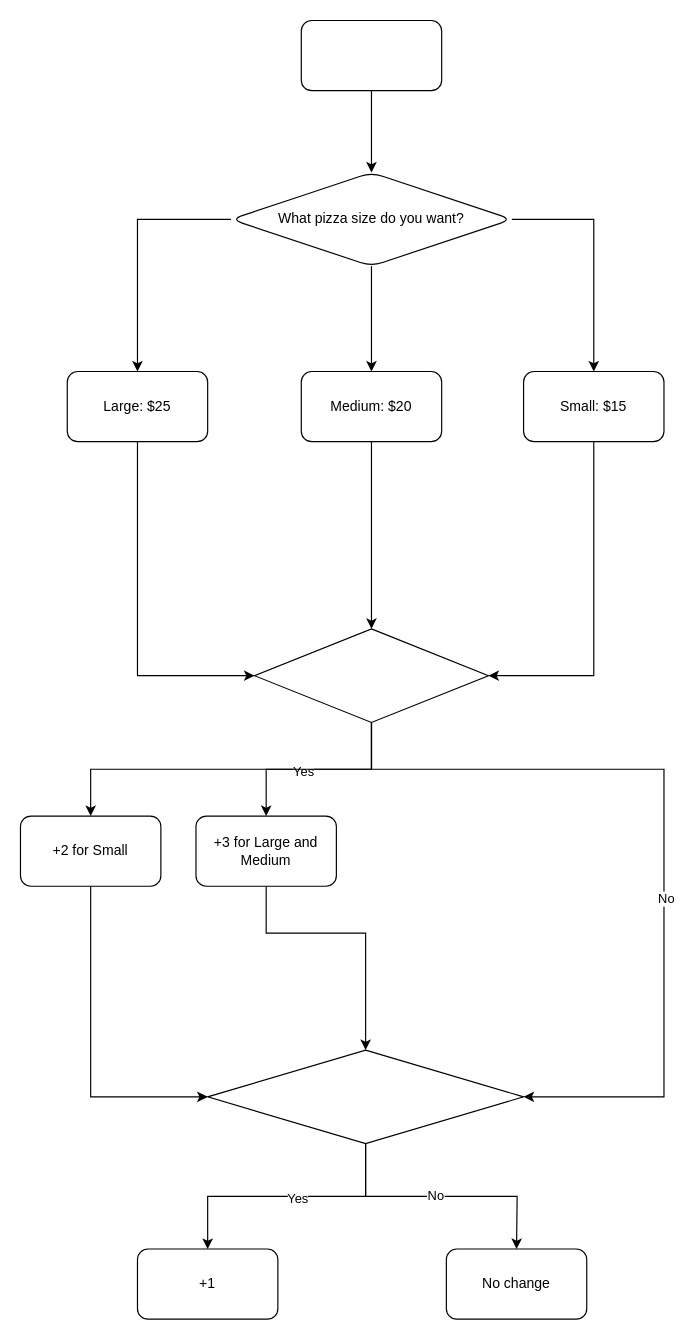
The diagram is 694 pixels wide and 1340 high, and some of its shapes have lost their labels. Here are the shapes that lost their labels. From the top down, the centre of each, then its label:
At [371,55]: "Start".
At [370,675]: "Do you want extra pepperoni?".
At [365,1096]: "Extra Cheese?".
